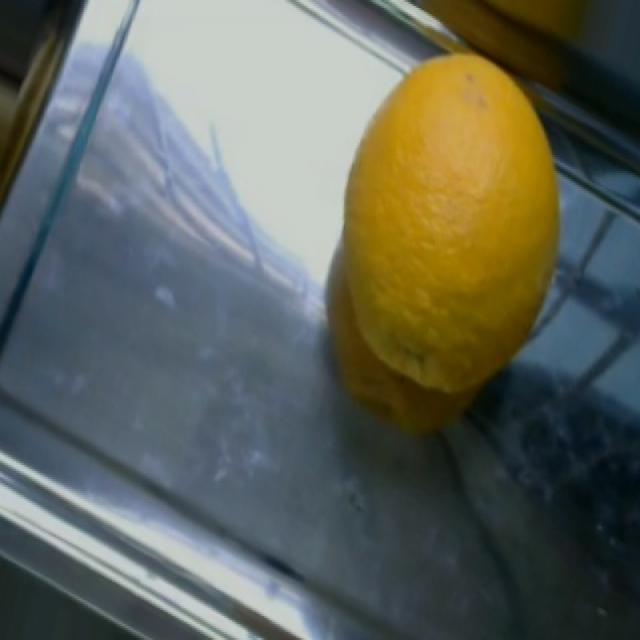Fruit: (303, 30, 588, 419), (440, 0, 640, 62)
